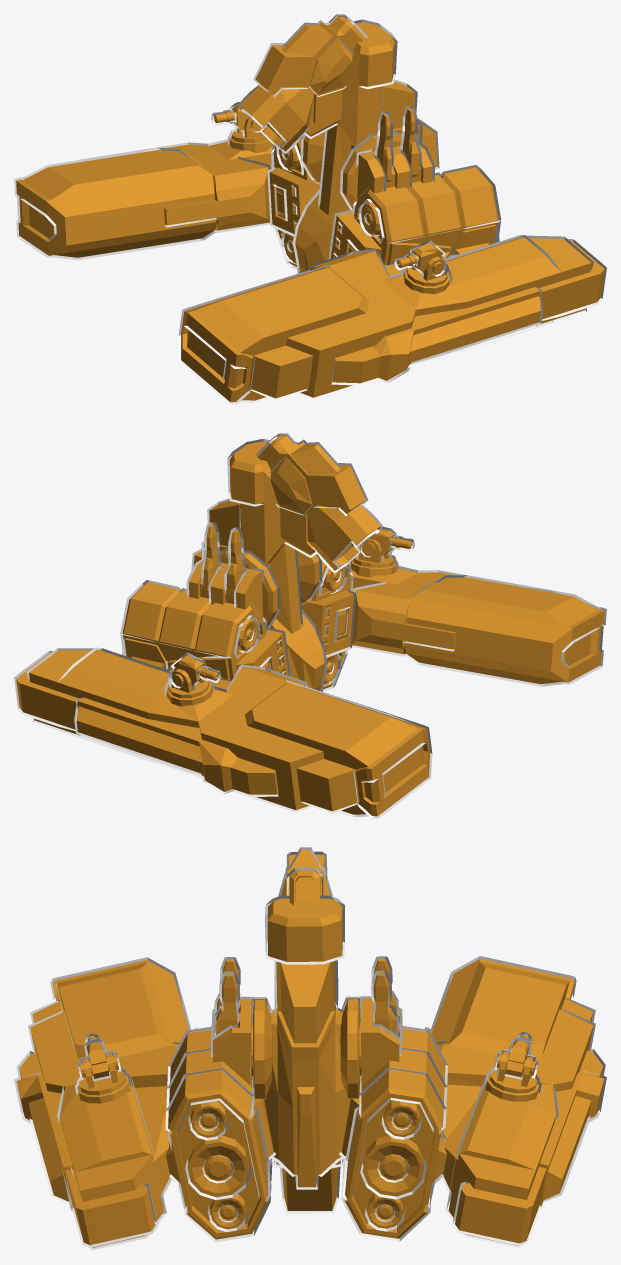
Rendered from ship4_orange.glb.
3 views of the same model, one above another, from view 1: azimuth 30°, elevation 25°; view 2: azimuth 150°, elevation 25°; view 3: azimuth 270°, elevation 25° (orthographic). The views are drawn at different scales.
Parts seen in each view (by area): view 1: ME_ship_IndexedFaceSet; view 2: ME_ship_IndexedFaceSet; view 3: ME_ship_IndexedFaceSet.
Part boxes in pixels (x1,y1,x2,y2): ME_ship_IndexedFaceSet: (14,14,606,404); ME_ship_IndexedFaceSet: (14,433,606,818); ME_ship_IndexedFaceSet: (14,847,606,1250).
Size of the model in its own units: 352 by 257 by 398.
